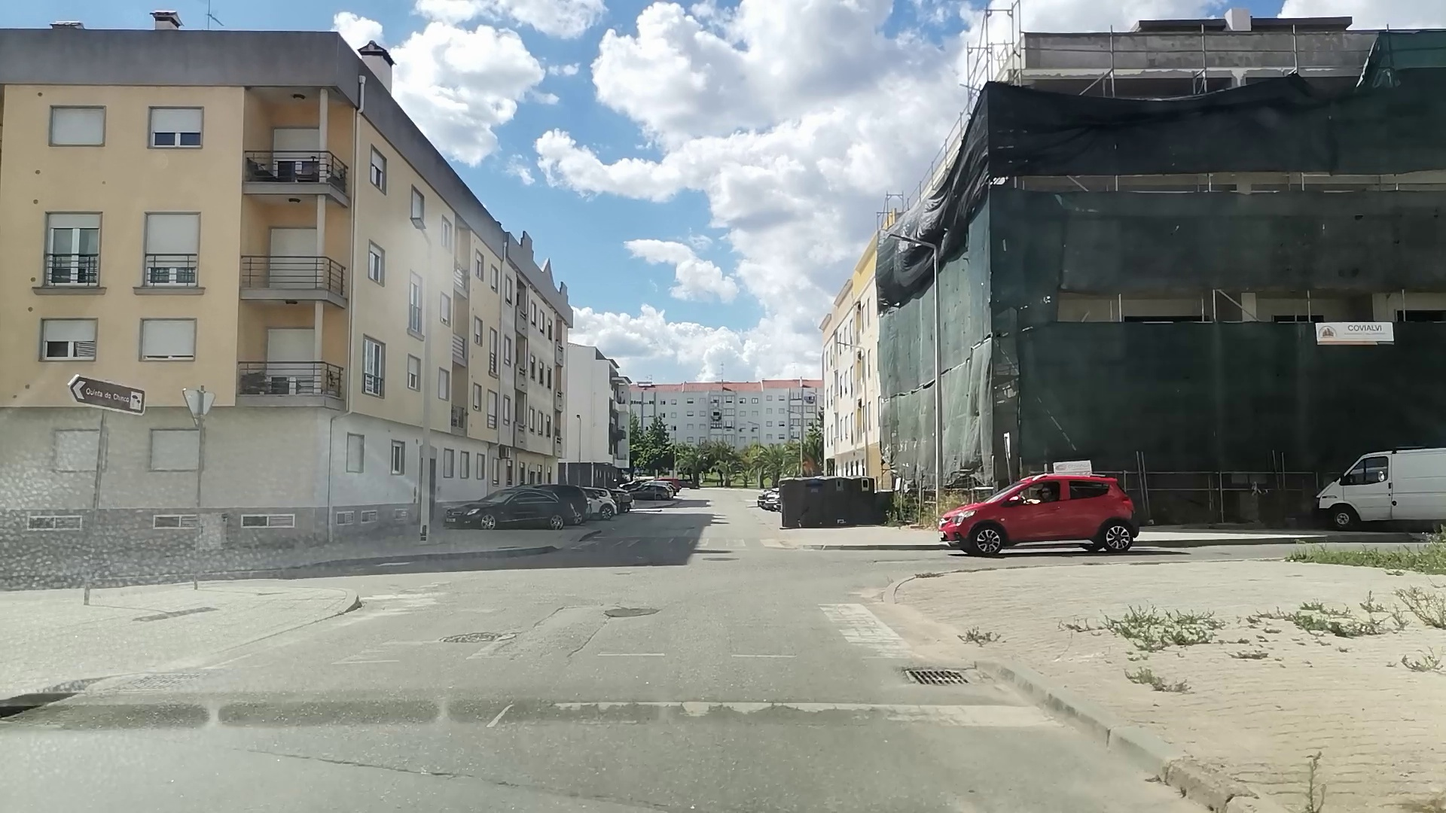Stairs: (201, 595, 916, 669), (578, 535, 787, 552)
